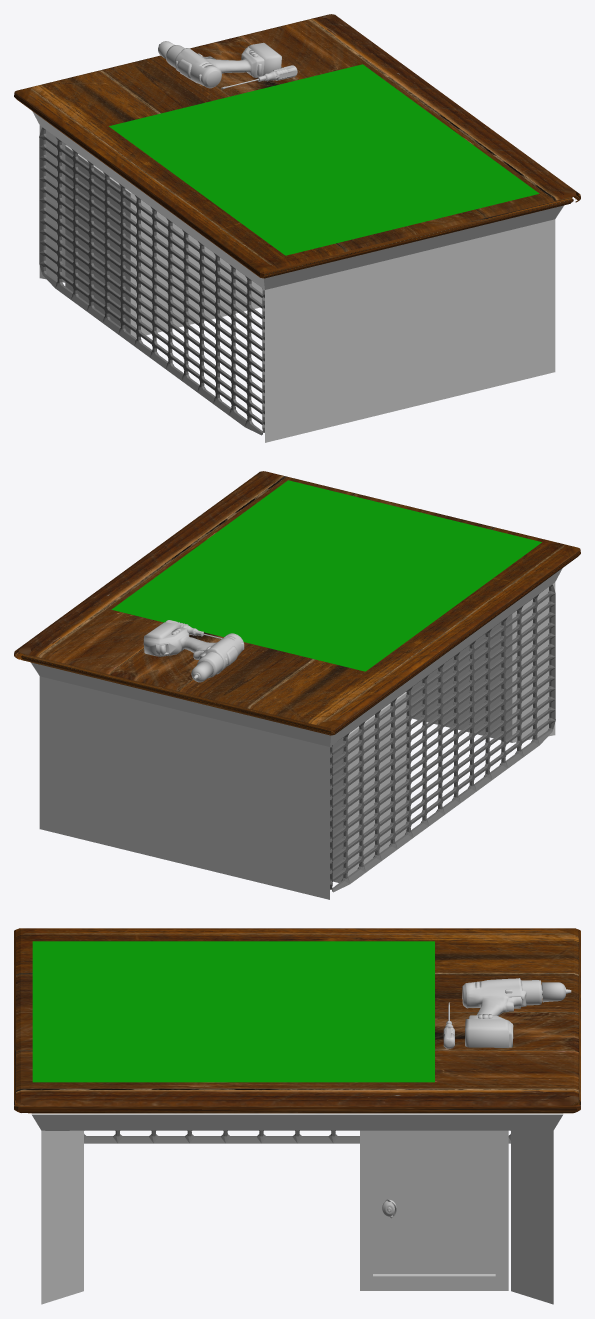
The model's file is WorkStation.fbx.
3 views of the same model, one above another, from view 1: azimuth 30°, elevation 25°; view 2: azimuth 150°, elevation 25°; view 3: azimuth 270°, elevation 25° (orthographic). The views are drawn at different scales.
Parts seen in each view (by area): view 1: stand, mat, wood part, shelf, Drill_01; view 2: stand, mat, wood part, shelf, Drill_01; view 3: mat, wood part, stand, shelf, Drill_01.
Boxes of the visible parts, left/top/right/bottom form: stand: left=32, top=111, right=563, bottom=442; mat: left=109, top=64, right=539, bottom=255; wood part: left=14, top=14, right=580, bottom=278; shelf: left=65, top=145, right=262, bottom=337; Drill_01: left=158, top=41, right=281, bottom=88; stand: left=31, top=568, right=562, bottom=899; mat: left=111, top=480, right=541, bottom=671; wood part: left=14, top=471, right=580, bottom=735; shelf: left=332, top=692, right=406, bottom=882; Drill_01: left=143, top=622, right=244, bottom=682; mat: left=32, top=941, right=434, bottom=1082; wood part: left=14, top=928, right=580, bottom=1113; stand: left=31, top=1113, right=563, bottom=1304; shelf: left=360, top=1130, right=508, bottom=1290; Drill_01: left=462, top=978, right=571, bottom=1047.
Bounding box in the file's own units: 95.54 × 59.34 × 128.
